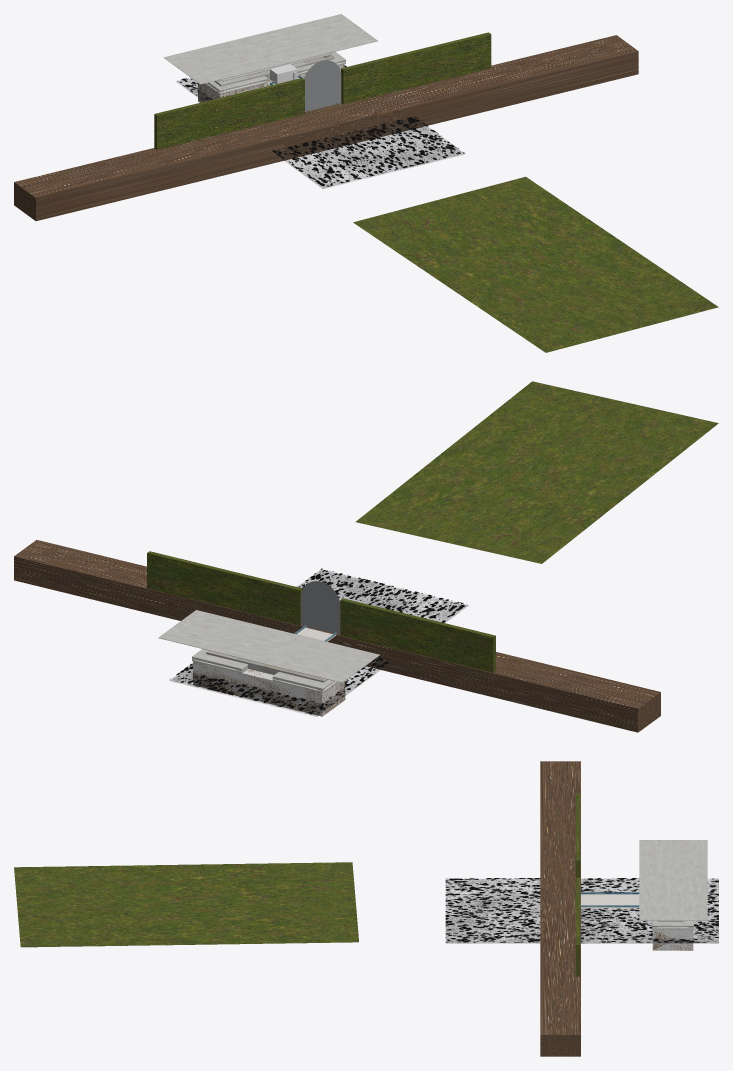
The model's file is Temmys-Castle-01.glb.
The picture shows the model from 3 angles, top to bottom: view 1: azimuth 30°, elevation 25°; view 2: azimuth 150°, elevation 25°; view 3: azimuth 270°, elevation 25°; orthographic projection. The views are drawn at different scales.
Visible parts, largest first — view 1: grass texture, dirt block, Plane.004, Cube.017, Cube.018, ocean texture 1, ocean texture 2, Gate 1, ocean texture 3; view 2: grass texture, dirt block, Plane.004, Cube.017, Cube.018, Cube.010, ocean texture 1, ocean texture 2, Gate 1, Dirt Cork, ocean texture 3, Cube.003 (+2 smaller); view 3: grass texture, dirt block, ocean texture 1, Plane.004, ocean texture 2, ocean texture 3, Cube.010, Walkable_Plane, Cube.018, Cube.017.
Part boxes in pixels (x1,y1,x2,y2): grass texture: (353, 176, 718, 352); dirt block: (14, 35, 638, 221); Plane.004: (163, 14, 377, 84); Cube.017: (154, 78, 304, 149); Cube.018: (341, 32, 491, 104); ocean texture 1: (180, 65, 464, 186); ocean texture 2: (177, 78, 462, 187); Gate 1: (304, 60, 341, 111); ocean texture 3: (177, 81, 463, 188); grass texture: (355, 381, 718, 563); dirt block: (14, 540, 660, 732); Plane.004: (158, 610, 379, 682); Cube.017: (340, 598, 495, 672); Cube.018: (147, 551, 302, 625); Cube.010: (193, 661, 345, 716); ocean texture 1: (169, 568, 464, 714); ocean texture 2: (171, 570, 467, 715); Gate 1: (301, 581, 340, 634); Dirt Cork: (193, 661, 345, 716); ocean texture 3: (171, 570, 466, 716); Cube.003: (206, 650, 327, 682); grass texture: (14, 862, 358, 947); dirt block: (540, 761, 580, 1056); ocean texture 1: (445, 878, 718, 942); Plane.004: (639, 840, 707, 920); ocean texture 2: (446, 879, 718, 942); ocean texture 3: (446, 880, 718, 943); Cube.010: (652, 929, 693, 950); Walkable_Plane: (581, 894, 639, 908); Cube.018: (575, 878, 580, 976); Cube.017: (575, 793, 580, 877).
Size of the model in its own units: 278 by 30.98 by 303.
Materials: 15 (13 with a texture image).
